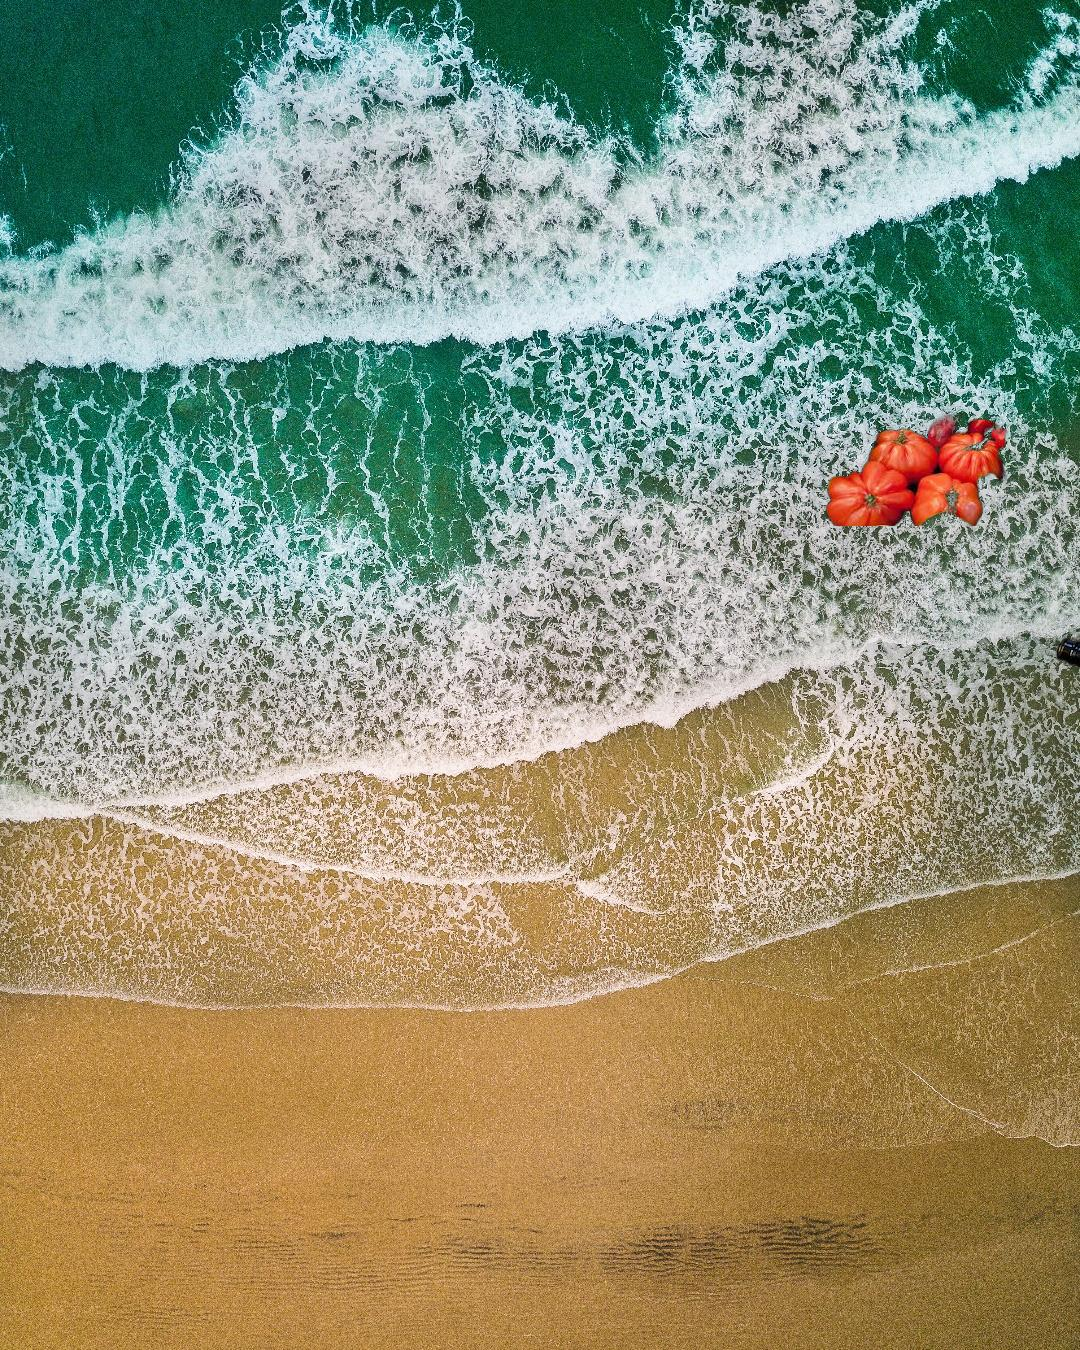biological: (823, 405, 1014, 526)
glass: (1051, 360, 1080, 812)
